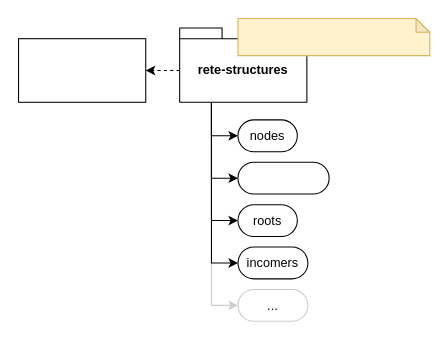
The diagram is 448 pixels wide and 340 high, and some of its shapes have lost their labels. Here are the shapes that lost their labels. From the top down, the box of each, then its label:
(237, 17, 430, 56): provides graph management methods for the editor instance
(17, 38, 146, 102): NodeEditor
(237, 161, 329, 194): connections
